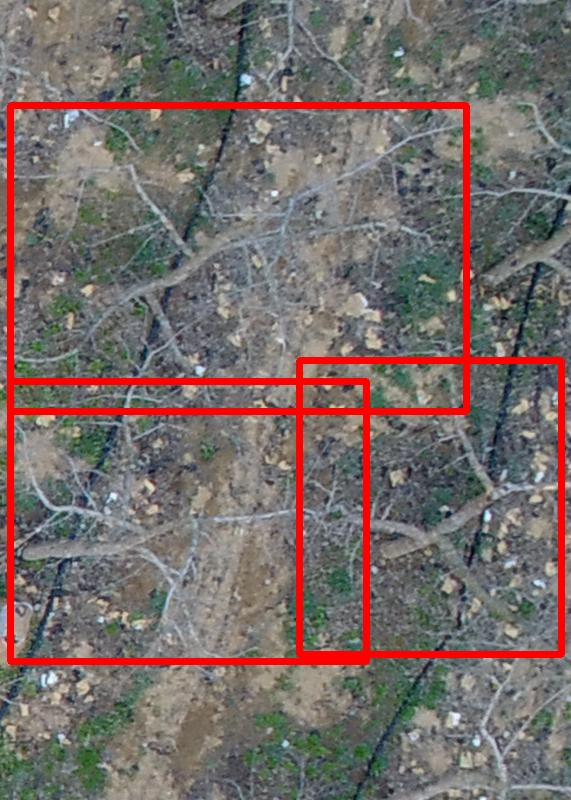apple: (10, 105, 466, 411), (10, 381, 366, 661), (299, 360, 561, 654)
